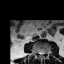CCS_severe_stenosis: (40, 50, 42, 58)
LFS_stenosis: (44, 50, 46, 56)
LLS_normal: (42, 50, 44, 57)
RFS_stenosis: (36, 49, 38, 55)
RLS_normal: (38, 50, 40, 56)
